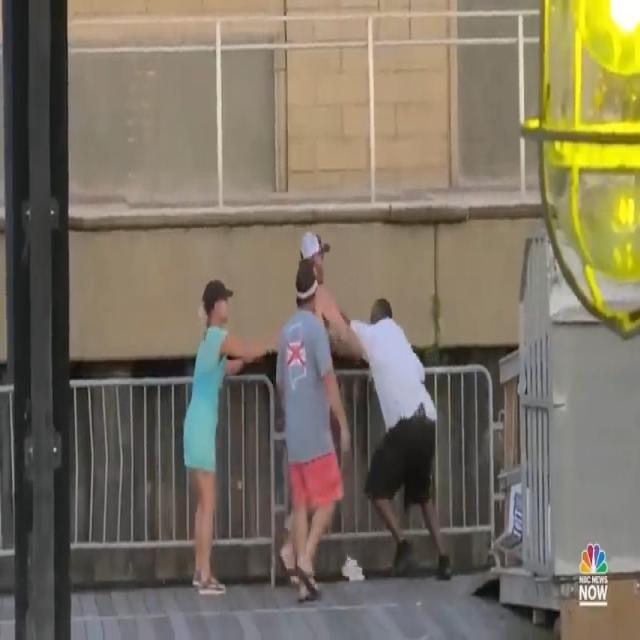fight: (296, 227, 457, 587)
non-fight: (180, 265, 349, 603)
